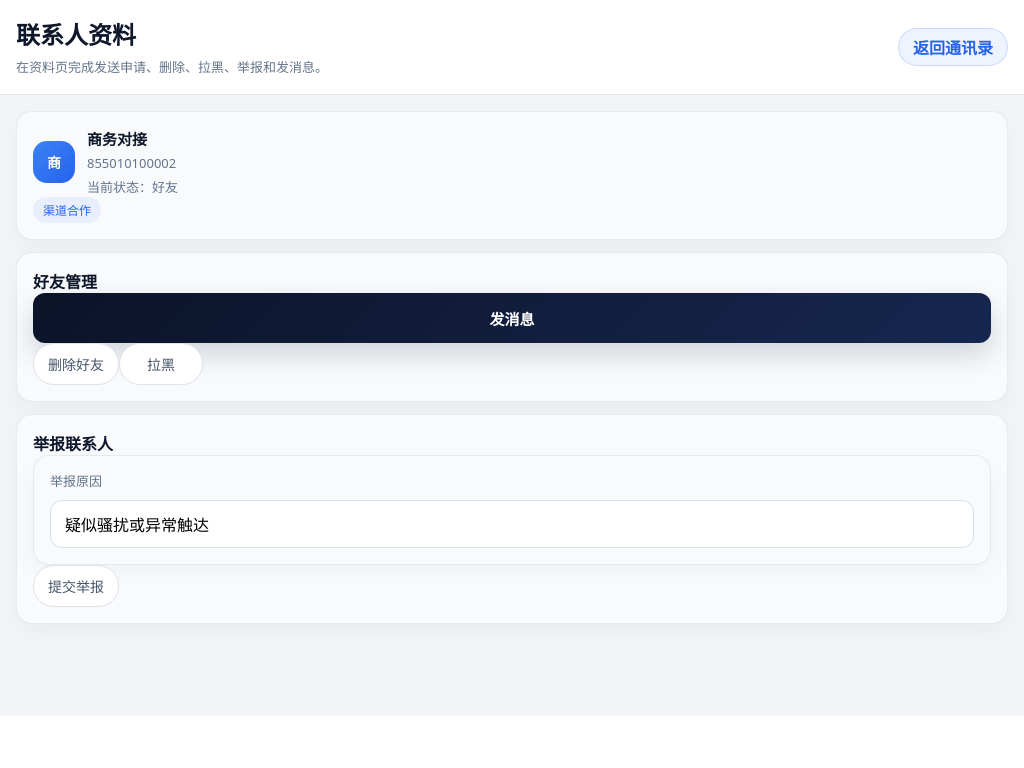
Test: App route entry › shows contact profile actions and sends report
Check: the text "当前状态：好友" is shown, box [87,177,178,197]
Check: the button "发消息" is shown, box [33,293,991,343]
Click the button "提交举报".
click(76, 586)  # box [33,565,119,607]
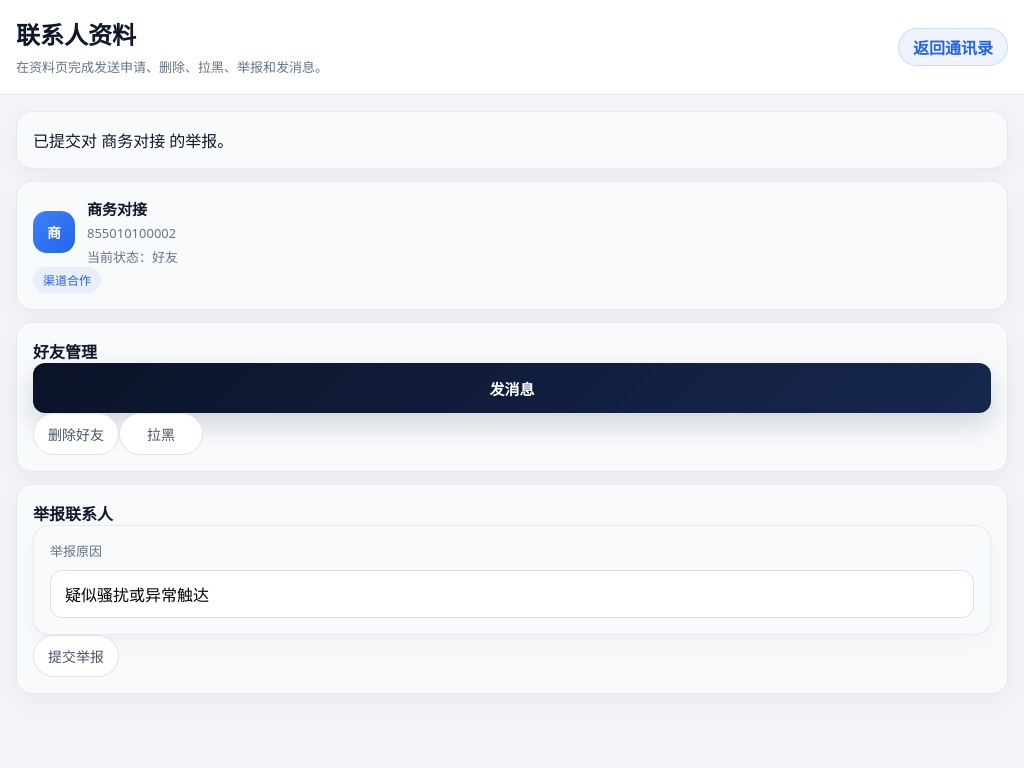
Check: the text "已提交对 商务对接 的举报。" is shown, box [16,111,1008,169]
